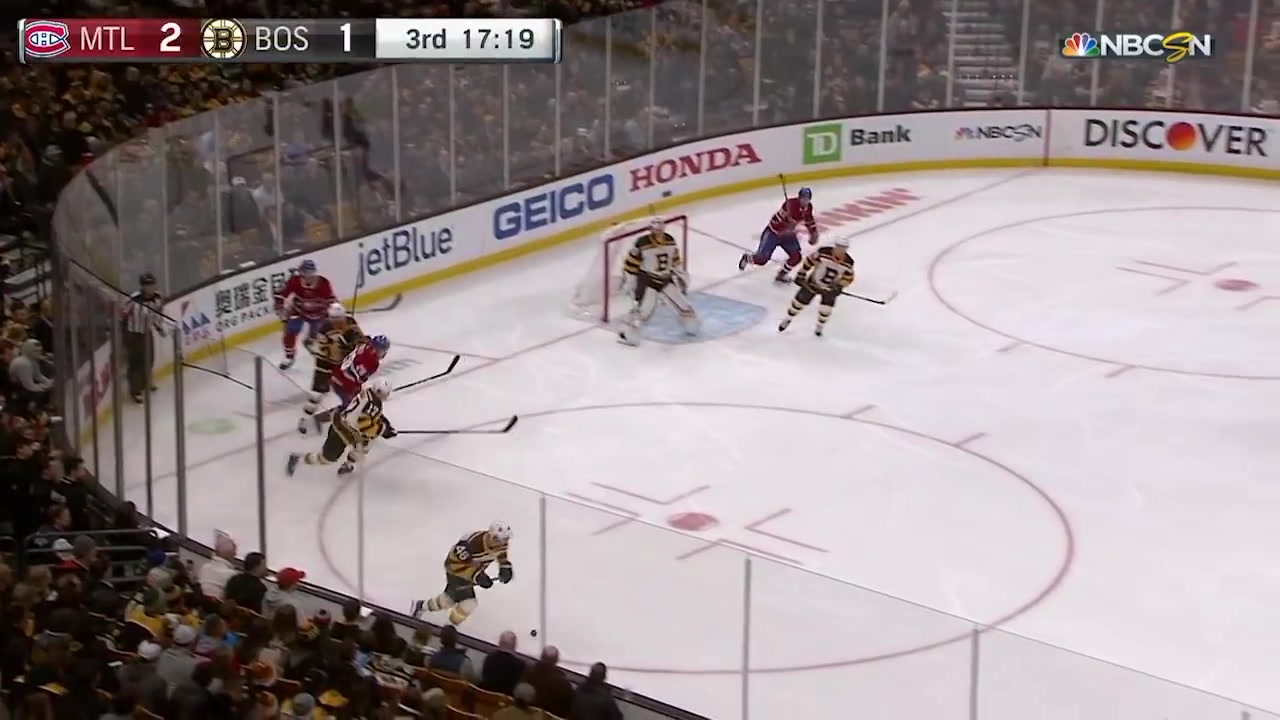geico: (489, 166, 622, 249)
